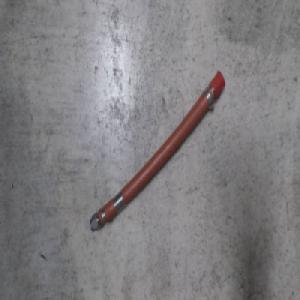Hose: (88, 68, 227, 234)
